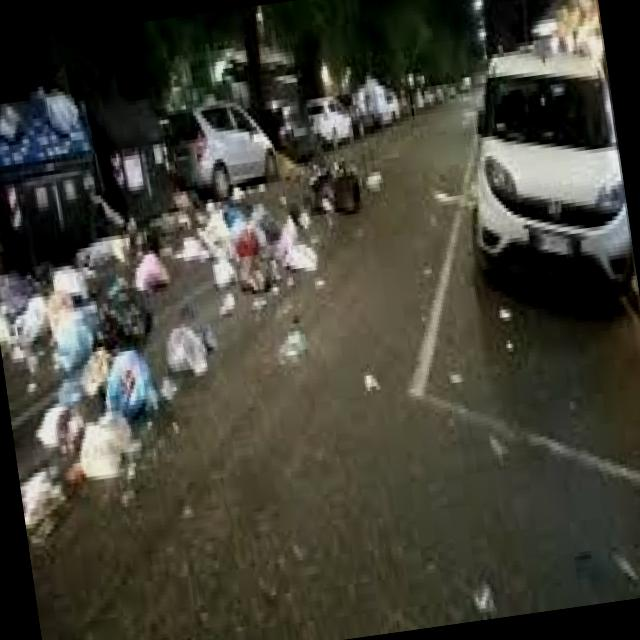garbage: (0, 141, 415, 490)
